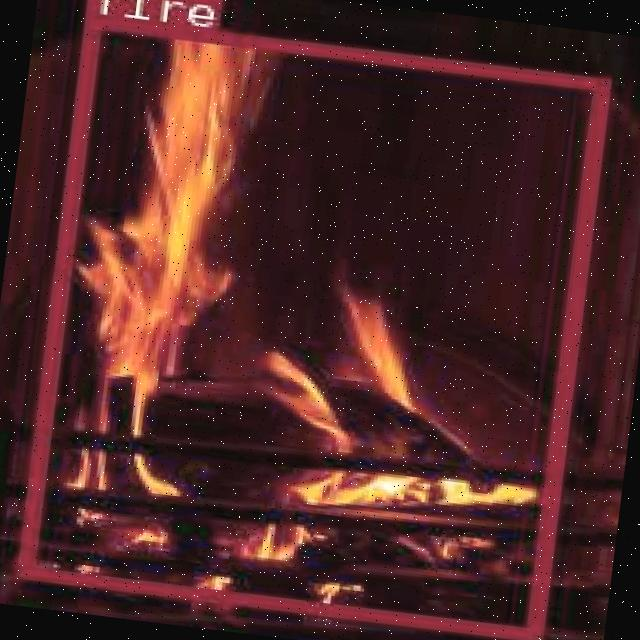fire: (14, 12, 604, 640)
